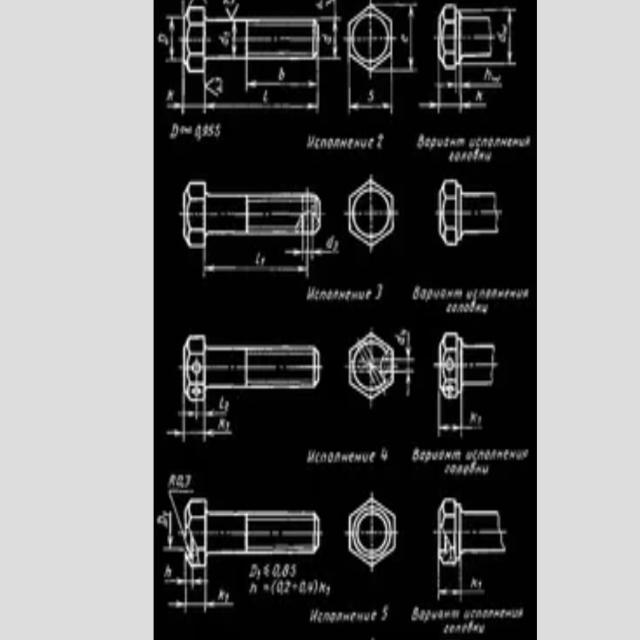marking_line: (166, 73, 321, 114), (202, 250, 310, 278), (419, 71, 489, 114), (167, 402, 233, 441), (244, 61, 321, 94), (433, 400, 485, 436), (164, 587, 235, 612), (435, 566, 488, 599), (347, 77, 396, 112), (432, 70, 502, 92), (395, 3, 416, 76), (493, 8, 517, 68), (395, 331, 414, 397), (285, 237, 340, 259), (319, 16, 342, 61), (161, 511, 184, 552), (162, 568, 211, 587), (165, 13, 182, 63), (177, 402, 229, 418), (169, 489, 183, 535)
numeric: (297, 578, 308, 596), (393, 330, 405, 346), (375, 281, 385, 300), (320, 31, 331, 47), (193, 124, 203, 141), (158, 32, 169, 47), (381, 604, 390, 622), (377, 131, 384, 152), (496, 31, 507, 44), (326, 233, 334, 250), (272, 562, 281, 577), (219, 34, 230, 46), (278, 64, 286, 80), (381, 448, 389, 463), (281, 563, 289, 578), (201, 123, 209, 138), (184, 473, 191, 490), (215, 122, 222, 139), (168, 475, 177, 488), (400, 31, 409, 44), (469, 576, 478, 588), (255, 251, 262, 266), (262, 89, 269, 104), (208, 122, 215, 137), (290, 563, 297, 577), (167, 89, 174, 103), (475, 91, 483, 103), (218, 399, 225, 412), (277, 579, 283, 594), (368, 87, 374, 102), (213, 74, 224, 82), (309, 580, 315, 594), (470, 411, 477, 423), (284, 579, 290, 592), (219, 417, 225, 430), (332, 238, 338, 251), (500, 22, 507, 33), (215, 82, 223, 91), (400, 328, 407, 337), (260, 256, 265, 266), (223, 30, 230, 37)
special_symbol: (180, 124, 191, 136)
